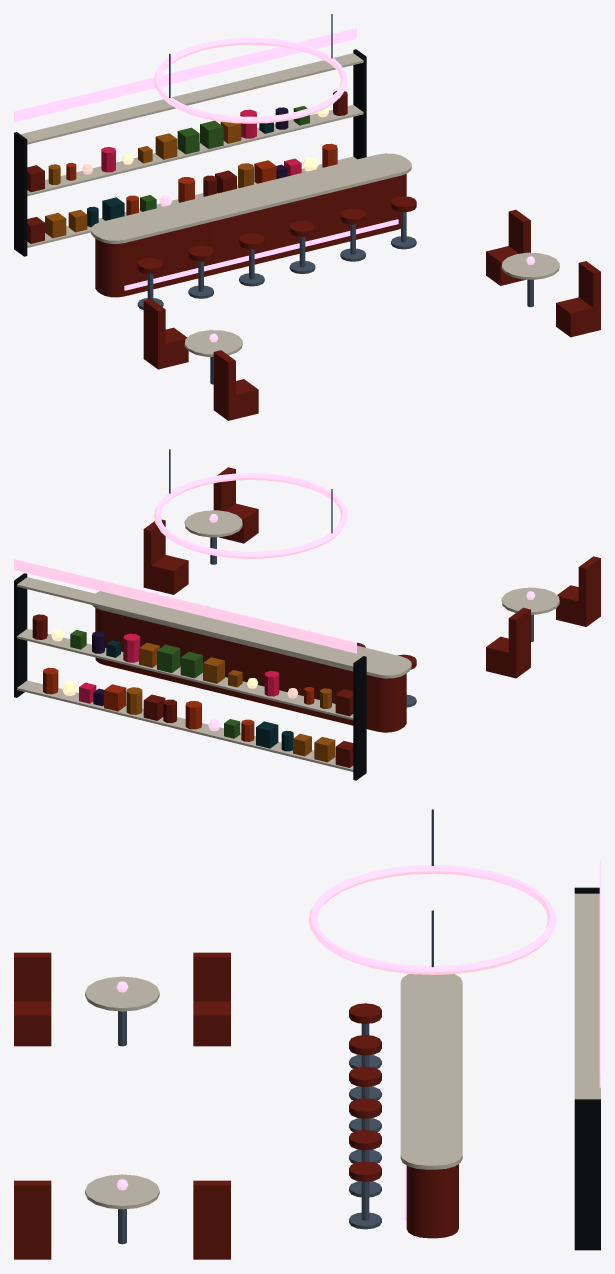
Rendered from fit_bar_2.glb.
The picture shows the model from 3 angles, top to bottom: view 1: azimuth 30°, elevation 25°; view 2: azimuth 150°, elevation 25°; view 3: azimuth 270°, elevation 25°; orthographic projection. The views are drawn at different scales.
Parts seen in each view (by area): view 1: fit_bar_2; view 2: fit_bar_2; view 3: fit_bar_2.
Boxes of the visible parts, bbox=[...] form: fit_bar_2: bbox=[14, 14, 600, 420]; fit_bar_2: bbox=[14, 449, 600, 780]; fit_bar_2: bbox=[14, 809, 600, 1259].
Bounding box in the file's own units: 7.36 × 4.18 × 7.85.
